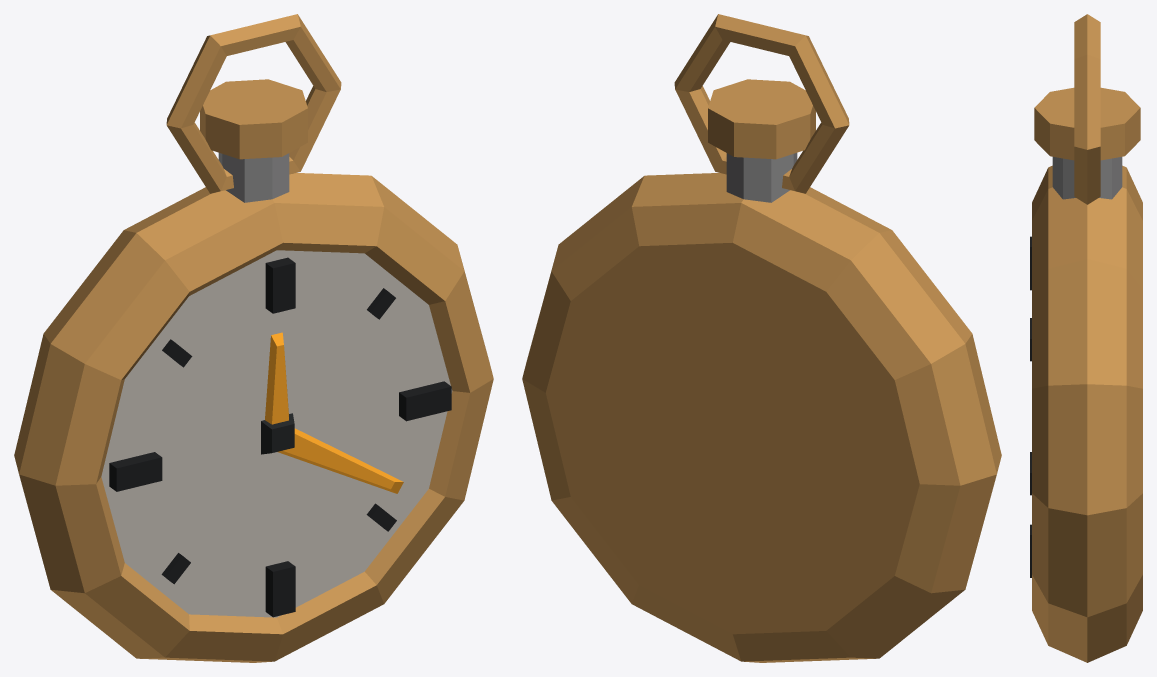
File: SM_Icon_Watch_01.glb
The picture shows the model from 3 angles, left to right: view 1: azimuth 30°, elevation 25°; view 2: azimuth 150°, elevation 25°; view 3: azimuth 270°, elevation 25°; orthographic projection. The views are drawn at different scales.
Visible parts, largest first — view 1: SM_Icon_Watch_01; view 2: SM_Icon_Watch_01; view 3: SM_Icon_Watch_01.
Part boxes in pixels (bbox=[...]): SM_Icon_Watch_01: bbox=[14, 14, 493, 662]; SM_Icon_Watch_01: bbox=[522, 14, 1001, 662]; SM_Icon_Watch_01: bbox=[1030, 14, 1142, 662].
Bounding box in the file's own units: 0.464 × 0.6024 × 0.1018.
Materials: 1 (1 with a texture image).
